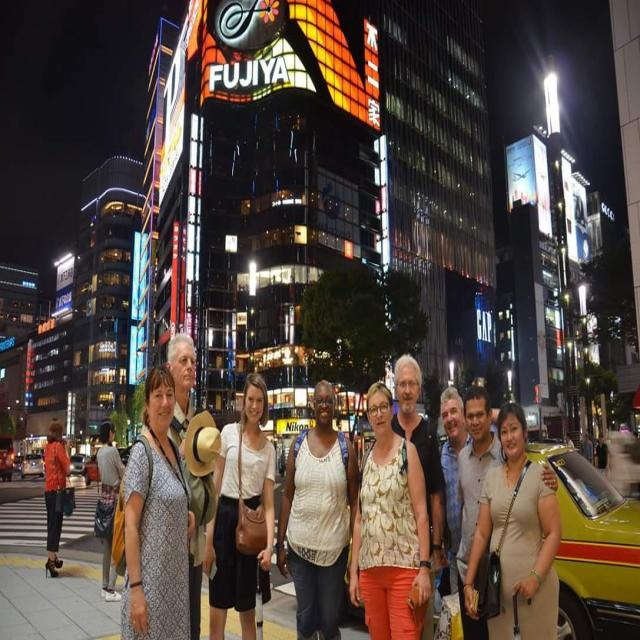body: (452, 384, 560, 639), (461, 398, 563, 639), (110, 362, 197, 639), (345, 378, 434, 639), (276, 376, 363, 639), (202, 369, 278, 639), (142, 331, 207, 638), (390, 354, 448, 640), (439, 386, 475, 600), (94, 418, 125, 604), (44, 417, 72, 578), (593, 433, 611, 473), (584, 432, 594, 465), (564, 430, 575, 446)
